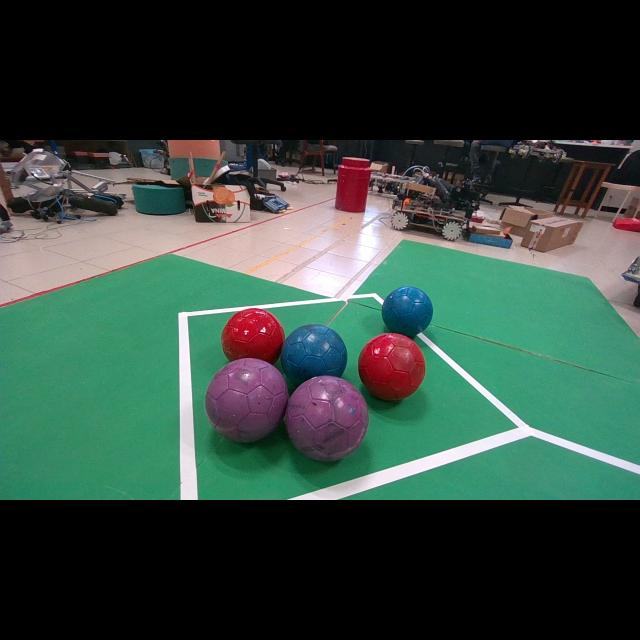B: (280, 324, 348, 384), (382, 288, 432, 338)
P: (285, 376, 369, 461), (205, 358, 289, 442)
R: (359, 332, 426, 400), (221, 309, 285, 364)
